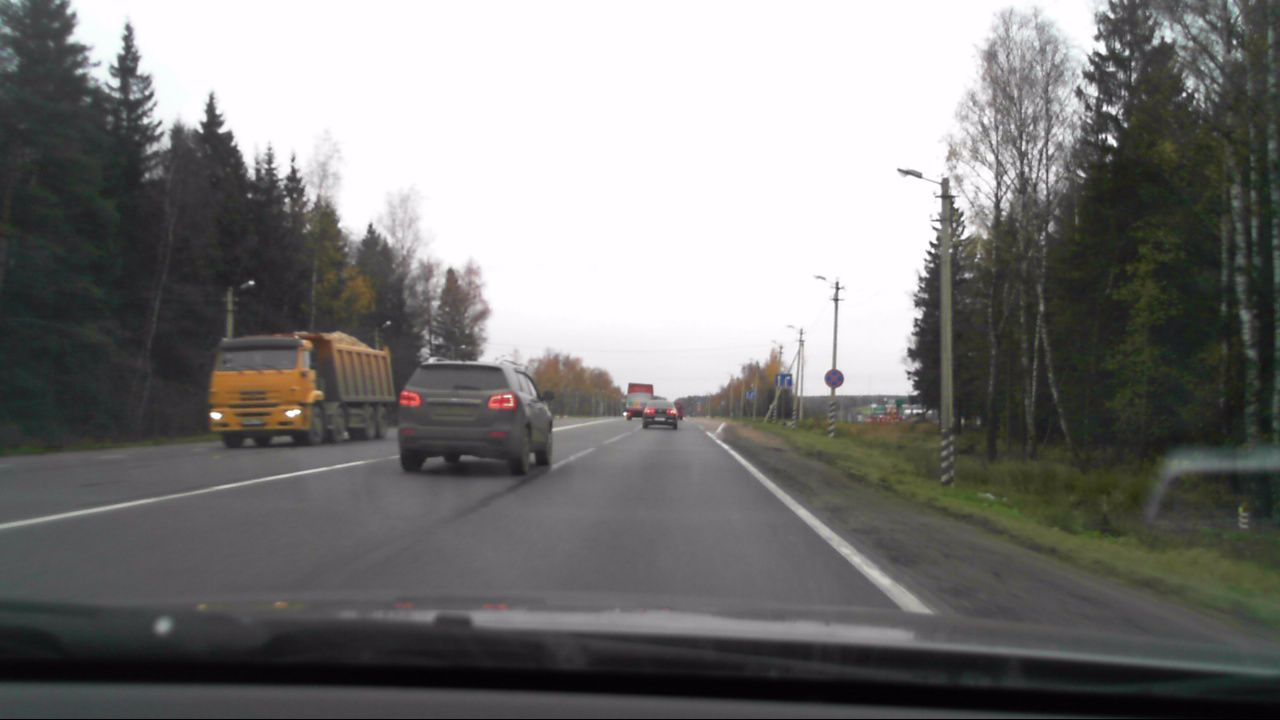No Parking: (823, 368, 846, 389)
